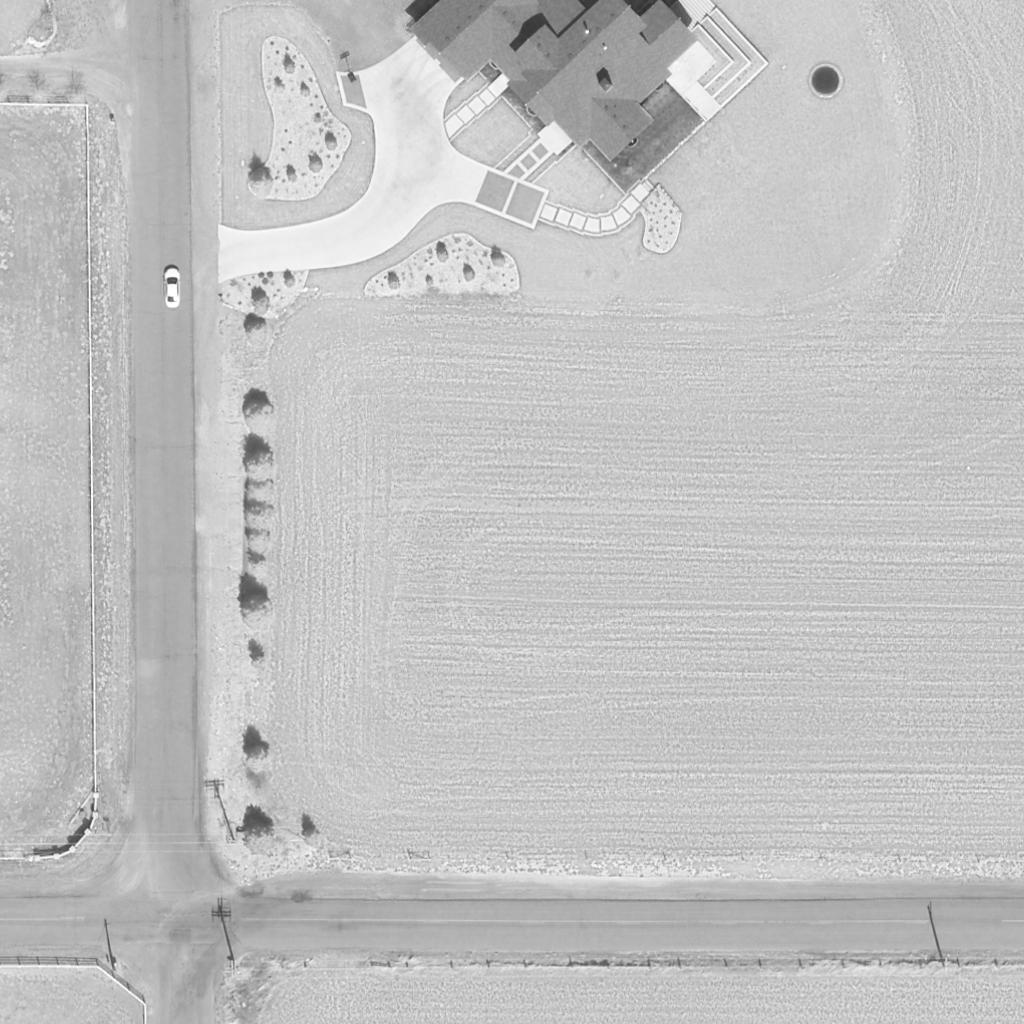vehicle: (164, 268, 182, 310)
